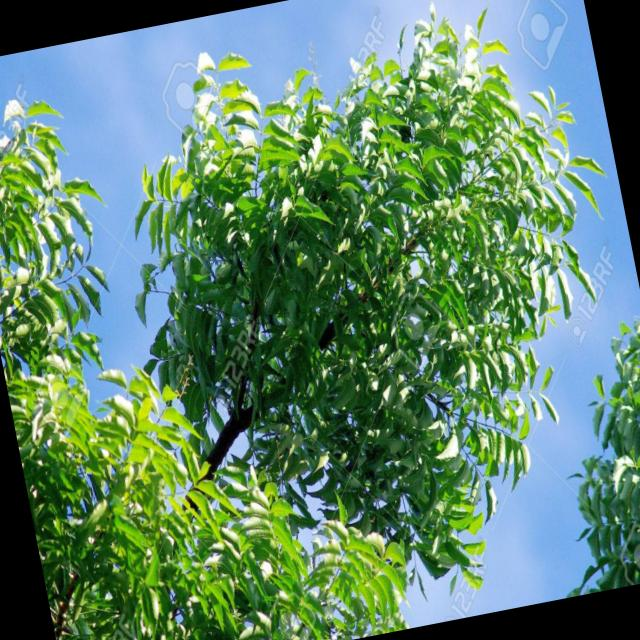Medicinal-Neem: (175, 1, 640, 625), (17, 368, 415, 640), (0, 56, 141, 431)
